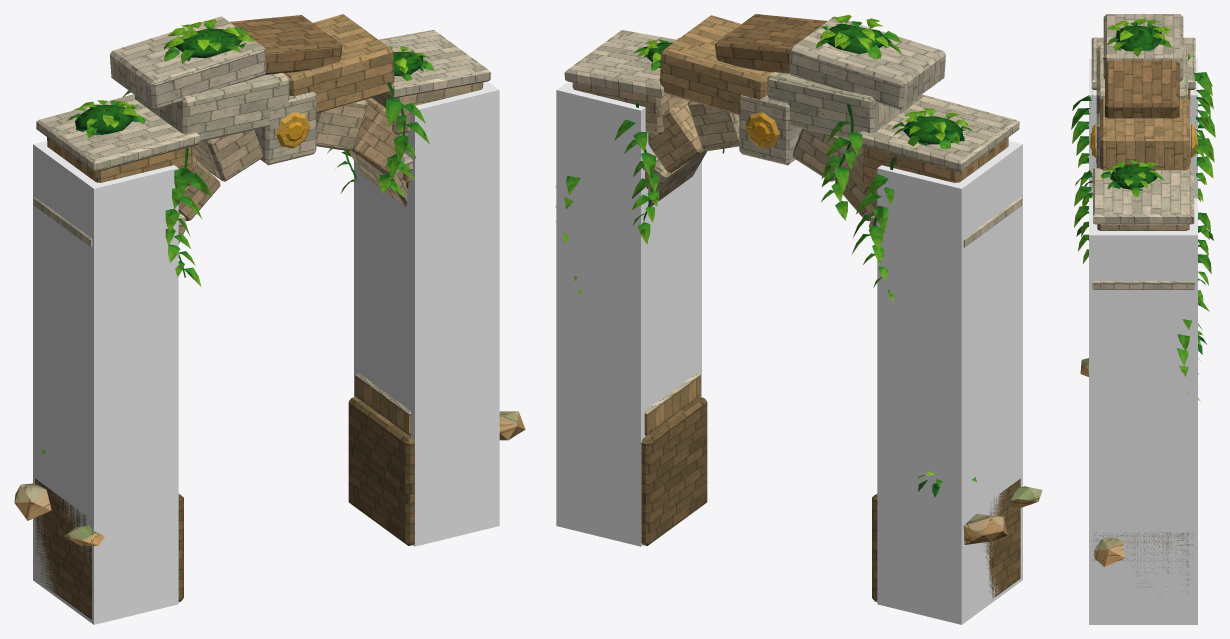
File: ruin_arch.glb
3 renders of one model, left to right at view 1: azimuth 30°, elevation 25°; view 2: azimuth 150°, elevation 25°; view 3: azimuth 270°, elevation 25°, orthographic. The views are drawn at different scales.
Visible parts, largest first — view 1: RuinArch, col_arch_l, col_arch_r; view 2: RuinArch, col_arch_l, col_arch_r; view 3: col_arch_r, RuinArch, col_arch_l.
Part boxes in pixels (x1=…): RuinArch: x1=14, y1=14, x2=525, y2=619; col_arch_l: x1=33, y1=141, x2=178, y2=624; col_arch_r: x1=354, y1=81, x2=499, y2=546; RuinArch: x1=555, y1=14, x2=1042, y2=601; col_arch_l: x1=877, y1=141, x2=1022, y2=624; col_arch_r: x1=556, y1=81, x2=701, y2=546; col_arch_r: x1=1089, y1=198, x2=1197, y2=624; RuinArch: x1=1071, y1=14, x2=1215, y2=618; col_arch_l: x1=1089, y1=58, x2=1197, y2=198.
Bounding box in the file's own units: 7.55 × 8.33 × 2.26.
Materials: 5 (4 with a texture image).
